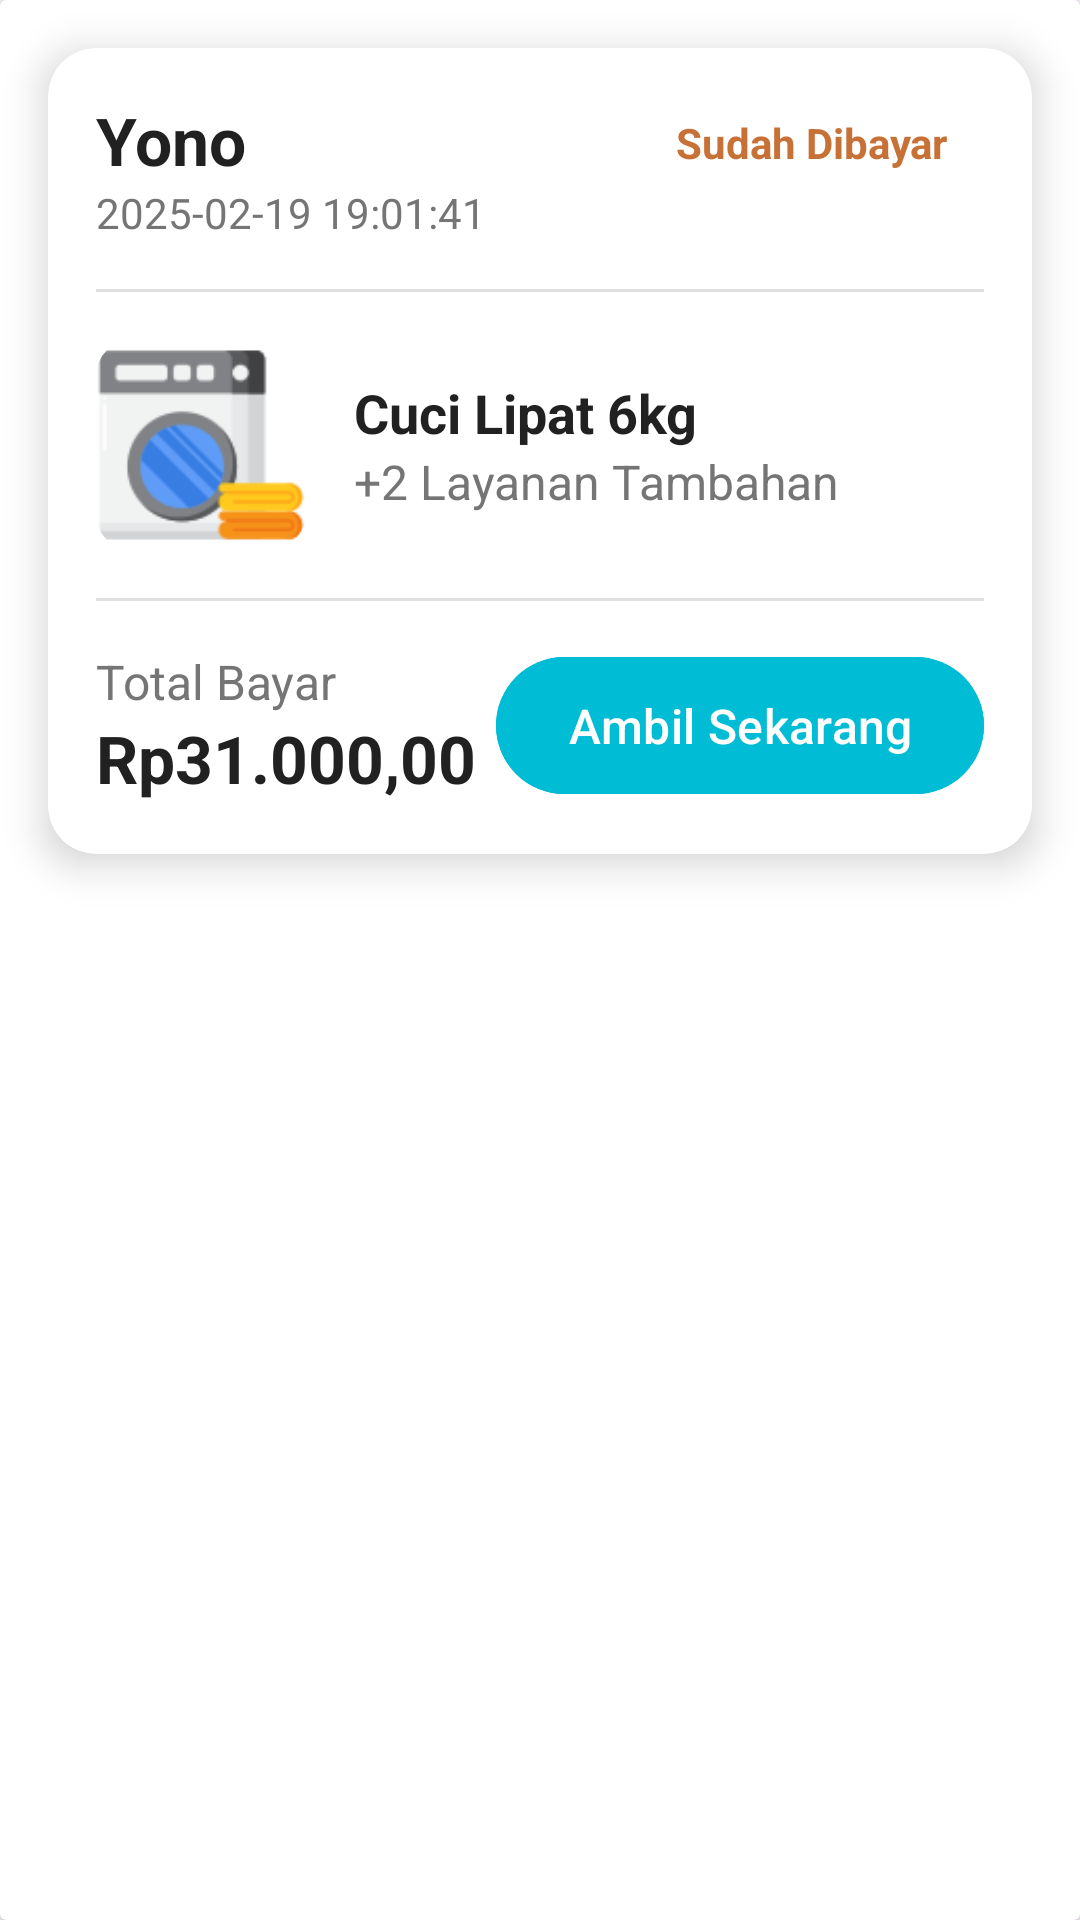

Icon bounding boxes for this 1080px×1920px phone screenshot, format (x1, y1, x2, y2):
mesincuci: (98, 350, 304, 540)
